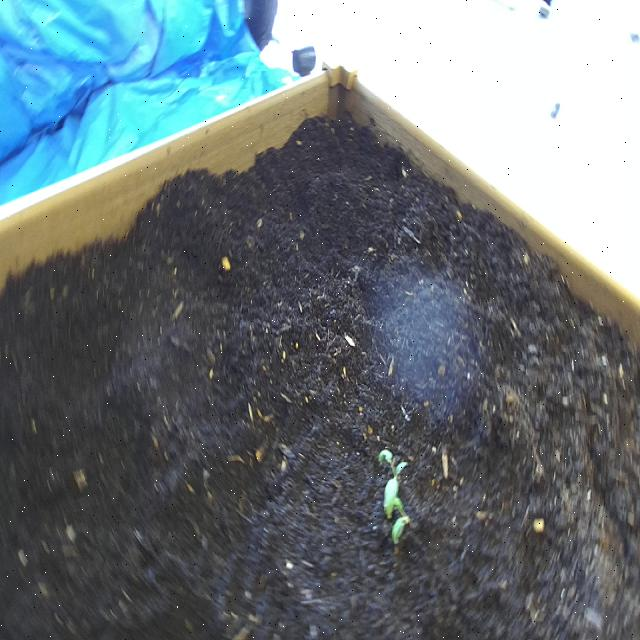Healthy: (367, 430, 428, 554)
